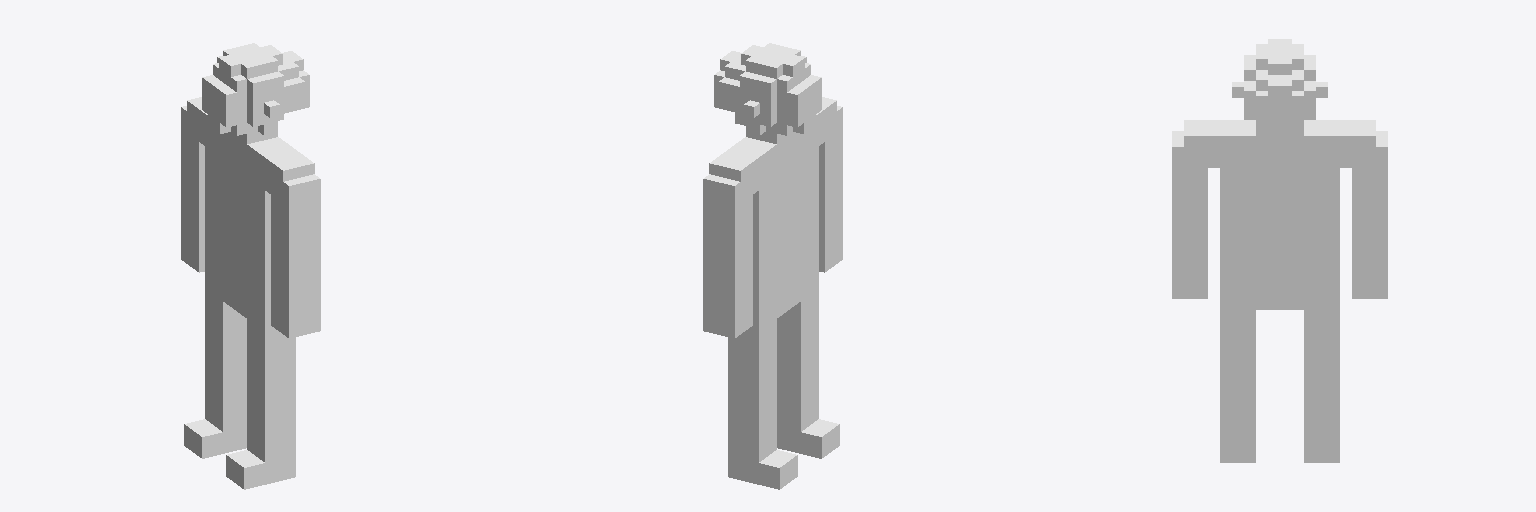
Rendered from guy_idle.obj.
3 views of the same model, side by side, from view 1: azimuth 30°, elevation 25°; view 2: azimuth 150°, elevation 25°; view 3: azimuth 270°, elevation 25° (orthographic).
Parts seen in each view (by area): view 1: object 1; view 2: object 1; view 3: object 1.
Boxes of the visible parts, x1,y1,x2,y2 form: object 1: [181, 43, 320, 489]; object 1: [703, 43, 842, 489]; object 1: [1172, 39, 1387, 462].
Size of the model in its own units: 0.8 by 3.7 by 1.8.